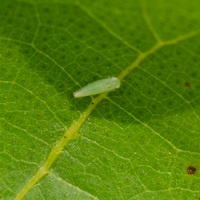insect: (73, 77, 119, 97), (187, 166, 195, 173)
